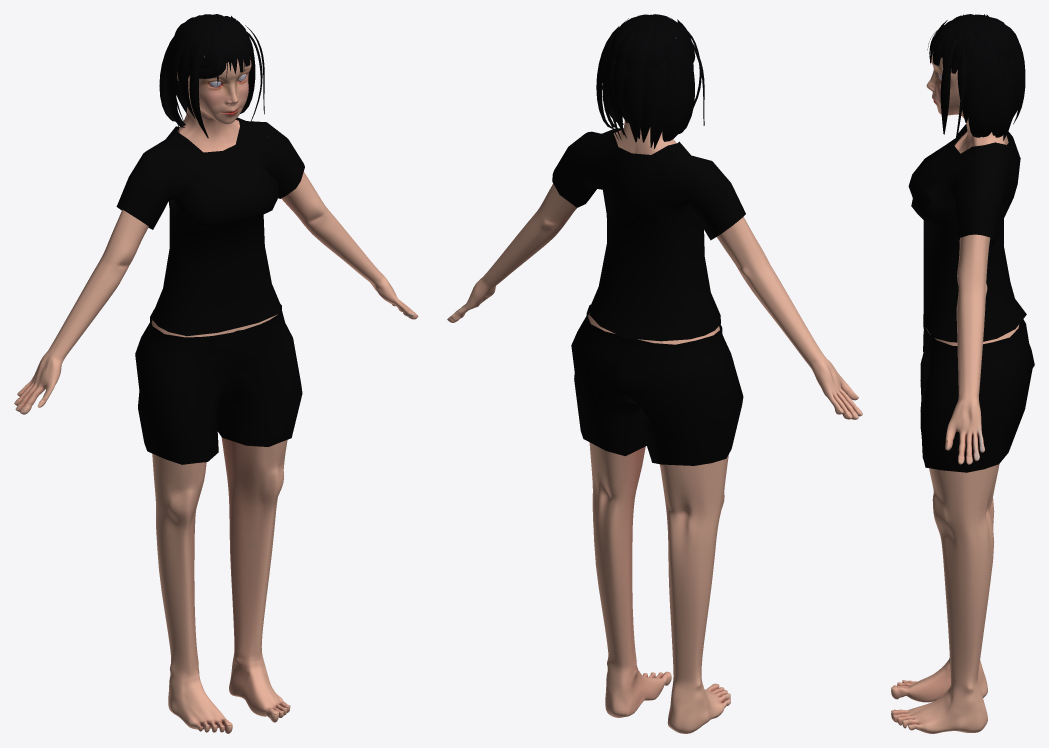
Rendered from Hair.fbx.
The picture shows the model from 3 angles, left to right: view 1: azimuth 30°, elevation 25°; view 2: azimuth 150°, elevation 25°; view 3: azimuth 270°, elevation 25°; orthographic projection. The views are drawn at different scales.
Parts seen in each view (by area): view 1: Cloth, Body, Hair; view 2: Cloth, Body, Hair; view 3: Cloth, Body, Hair.
Boxes of the visible parts, left/top/right/bottom form: Cloth: left=116, top=117, right=304, bottom=464; Body: left=14, top=56, right=418, bottom=733; Hair: left=159, top=14, right=264, bottom=138; Cloth: left=552, top=128, right=745, bottom=465; Body: left=447, top=120, right=862, bottom=733; Hair: left=596, top=14, right=704, bottom=148; Cloth: left=908, top=124, right=1034, bottom=472; Body: left=891, top=51, right=1019, bottom=733; Hair: left=927, top=14, right=1025, bottom=141.
Size of the model in its own units: 104 by 171 by 32.13.
